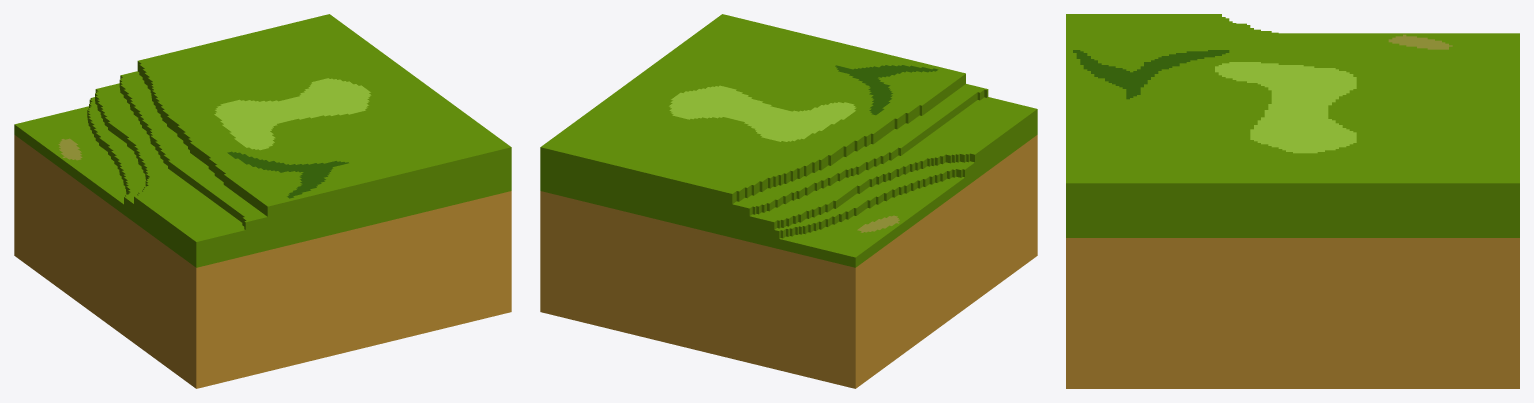
The picture shows the model from 3 angles, left to right: view 1: azimuth 30°, elevation 25°; view 2: azimuth 150°, elevation 25°; view 3: azimuth 270°, elevation 25°; orthographic projection. The views are drawn at different scales.
Parts seen in each view (by area): view 1: 15E; view 2: 15E; view 3: 15E.
Part boxes in pixels (bbox=[...]): 15E: bbox=[14, 14, 511, 388]; 15E: bbox=[540, 14, 1037, 388]; 15E: bbox=[1066, 14, 1519, 388].
Bounding box in the file's own units: 12.8 × 6.4 × 12.8.
1 material, 1 textured.
